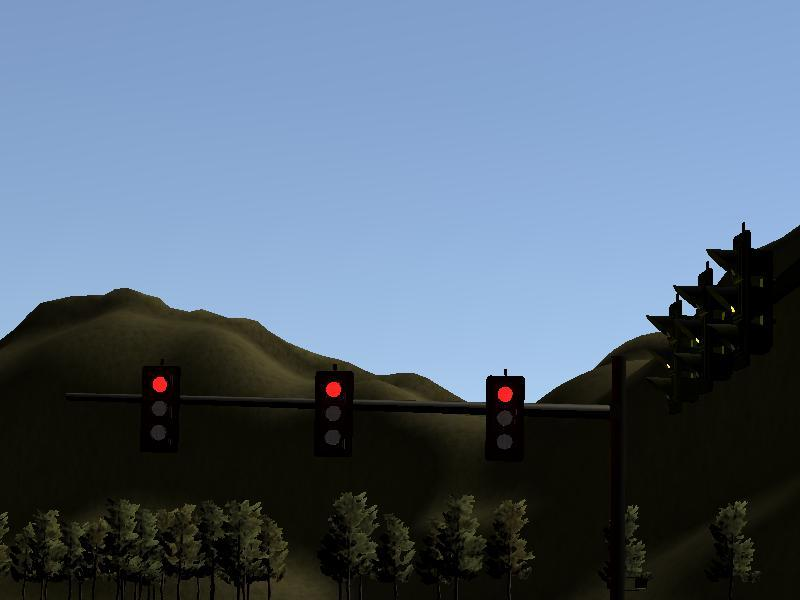Red: (139, 364, 179, 452), (485, 376, 525, 460), (314, 371, 352, 459)
